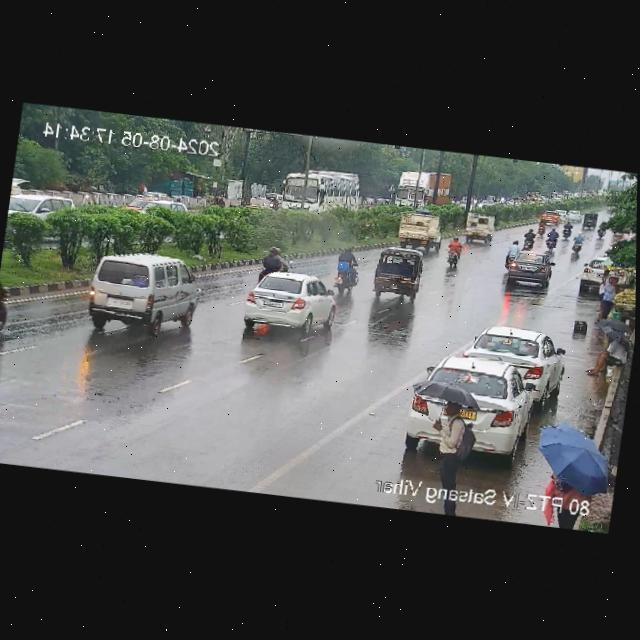bus: (280, 165, 364, 219)
car: (402, 352, 536, 464), (79, 244, 204, 338), (456, 322, 570, 408), (234, 266, 340, 341), (367, 246, 423, 299), (577, 252, 635, 299), (505, 247, 554, 288), (539, 208, 560, 227), (581, 209, 598, 232), (563, 209, 582, 225)
motorcycle: (254, 240, 292, 289), (329, 243, 363, 295), (441, 236, 467, 268), (501, 238, 519, 270), (540, 228, 559, 251), (520, 227, 537, 252), (571, 229, 584, 256), (561, 221, 575, 239), (536, 215, 548, 236), (595, 218, 607, 239), (266, 192, 280, 210), (214, 194, 227, 208)
person: (407, 379, 482, 484), (529, 418, 616, 503), (590, 317, 635, 379), (593, 272, 621, 320)
truck: (392, 164, 453, 212), (389, 212, 444, 251), (462, 208, 496, 243)
